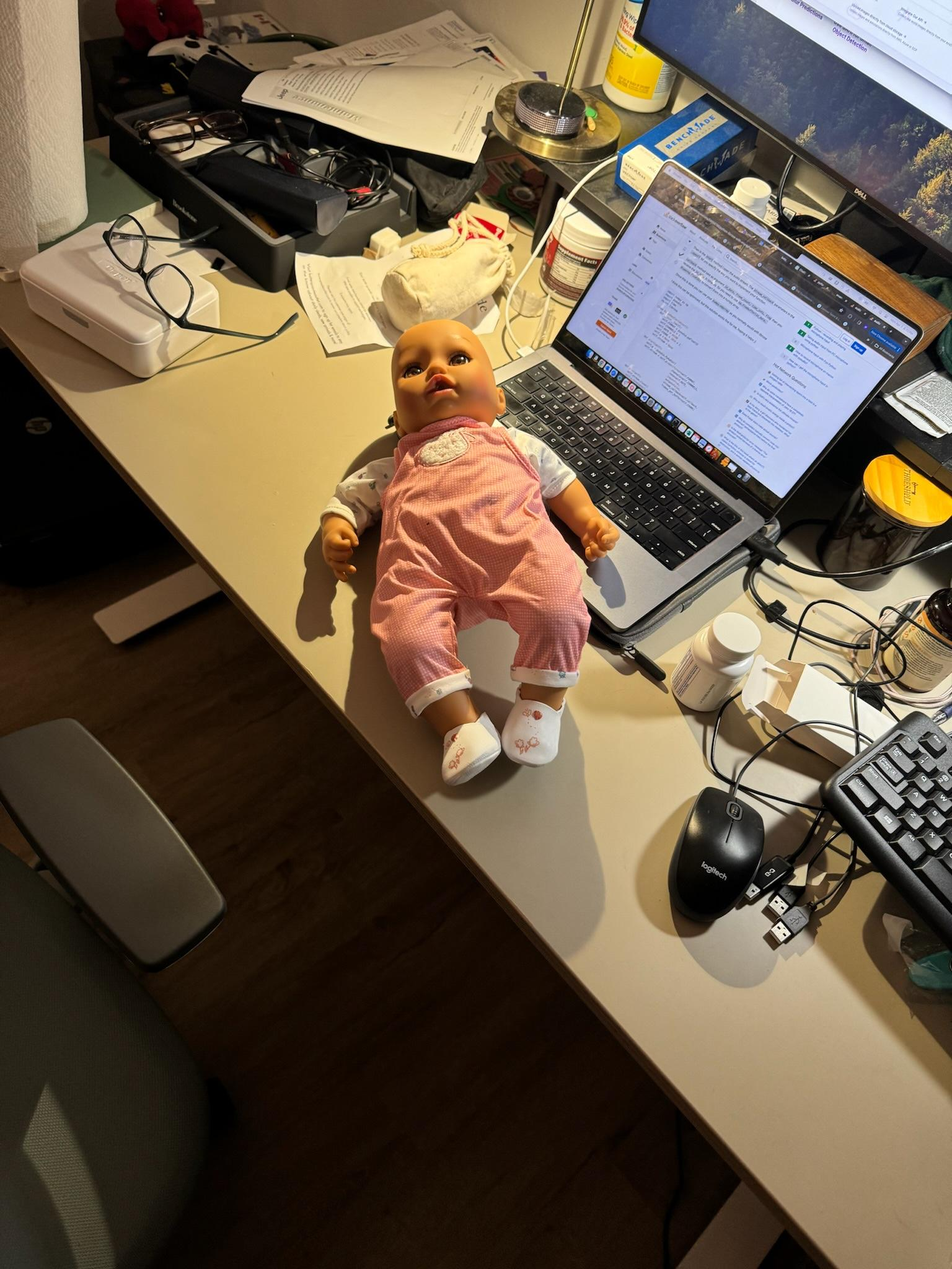baby: (304, 316, 628, 789)
